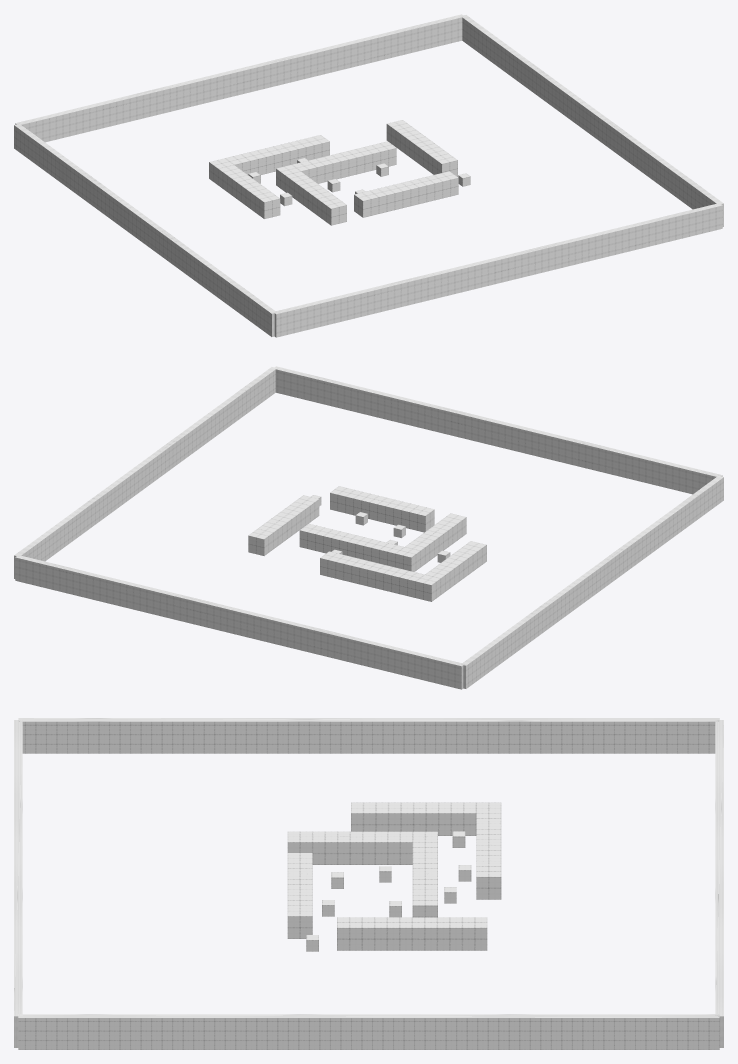
File: arena.glb
3 renders of one model, top to bottom at view 1: azimuth 30°, elevation 25°; view 2: azimuth 150°, elevation 25°; view 3: azimuth 270°, elevation 25°, orthographic. The views are drawn at different scales.
Visible parts, largest first — view 1: Cube.011, Cube.013, Cube.010, Cube.012, Cube.021, Cube.019, Cube.001, Cube.002, Cube.020, Cube.022; view 2: Cube.013, Cube.011, Cube.010, Cube.012, Cube.021, Cube.001, Cube.019, Cube.002, Cube.022, Cube.020; view 3: Cube.012, Cube.010, Cube.022, Cube.020, Cube.002, Cube.013, Cube.011, Cube.001, Cube.021, Cube.019.
Boxes of the visible parts, box(x1,y1,x2,y2) form: Cube.011: box(274, 203, 722, 337); Cube.013: box(15, 14, 463, 142); Cube.010: box(14, 124, 276, 336); Cube.012: box(461, 15, 723, 226); Cube.021: box(354, 171, 458, 217); Cube.019: box(292, 141, 396, 183); Cube.001: box(225, 135, 329, 174); Cube.002: box(209, 158, 280, 218); Cube.020: box(276, 164, 346, 225); Cube.022: box(386, 120, 457, 176); Cube.013: box(15, 555, 463, 689); Cube.011: box(274, 366, 722, 494); Cube.010: box(461, 476, 723, 688); Cube.012: box(14, 367, 276, 578); Cube.021: box(330, 486, 434, 532); Cube.001: box(320, 551, 424, 597); Cube.019: box(299, 523, 403, 567); Cube.002: box(415, 541, 486, 601); Cube.022: box(248, 495, 319, 555); Cube.020: box(395, 513, 466, 571); Cube.012: box(18, 1014, 719, 1049); Cube.010: box(18, 718, 719, 753); Cube.022: box(337, 917, 487, 950); Cube.020: box(287, 831, 437, 864); Cube.002: box(351, 802, 501, 835); Cube.013: box(715, 720, 723, 1047); Cube.011: box(14, 720, 22, 1047); Cube.001: box(476, 813, 501, 899); Cube.021: box(287, 853, 312, 938); Cube.019: box(412, 842, 437, 917).
Bounding box in the file's own units: 113 × 5.6 × 113.
Materials: 1 (1 with a texture image).
